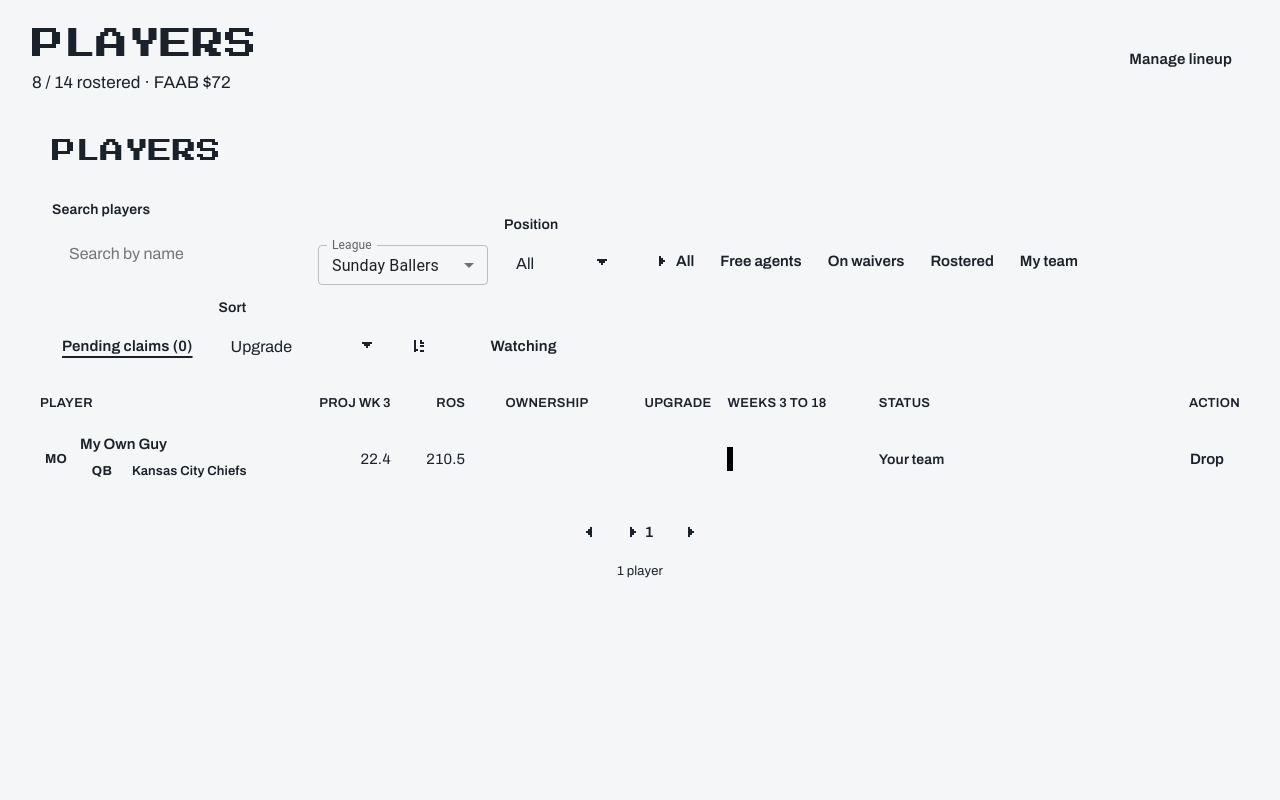
Test case: clicking one of the caller's own players' name opens the Decision card without crashing, and renders an Open lineup link
Step 1. Click the button "My Own Guy" → (124, 444), box [80,422,167,466]
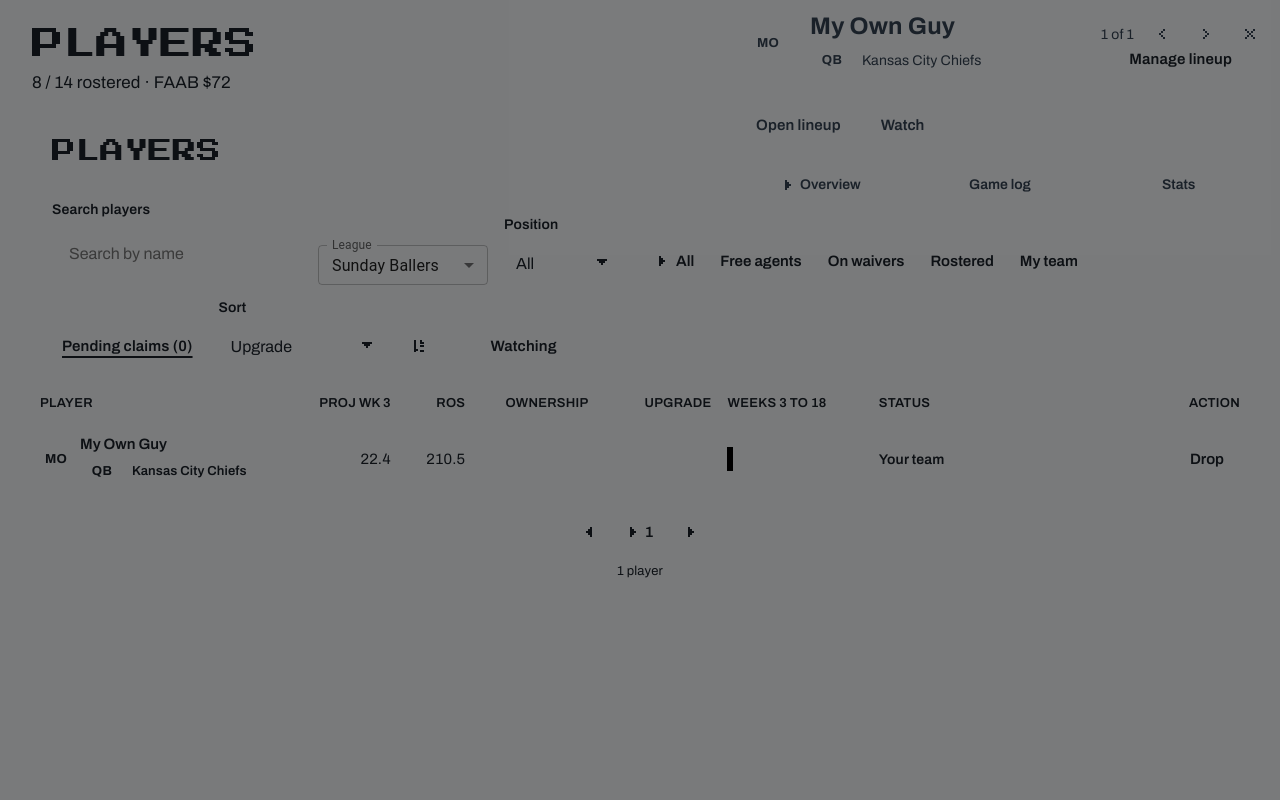
Expected: the heading "My Own Guy" is shown, [810,13,955,39]
